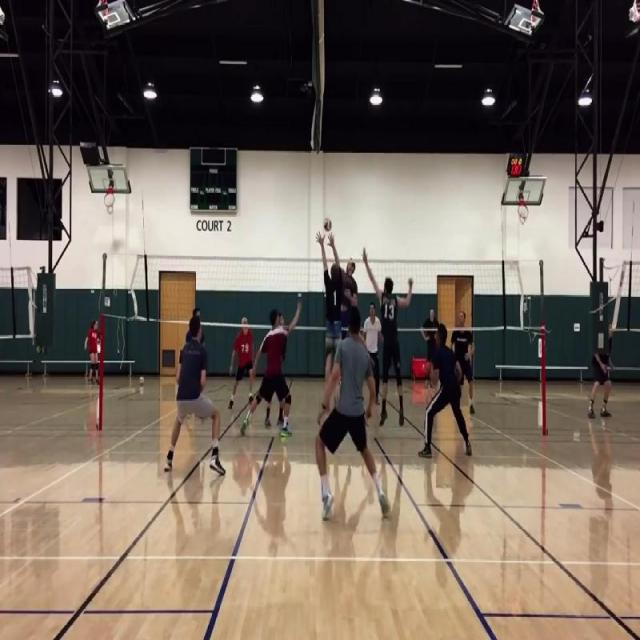volleyball: (324, 217, 332, 231)
